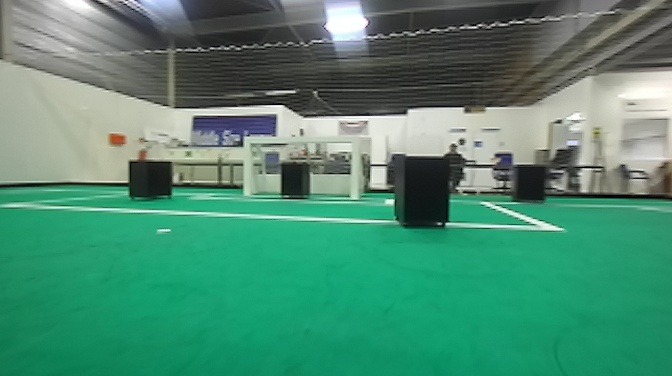goalpost: (347, 139, 364, 201), (244, 133, 254, 199)
